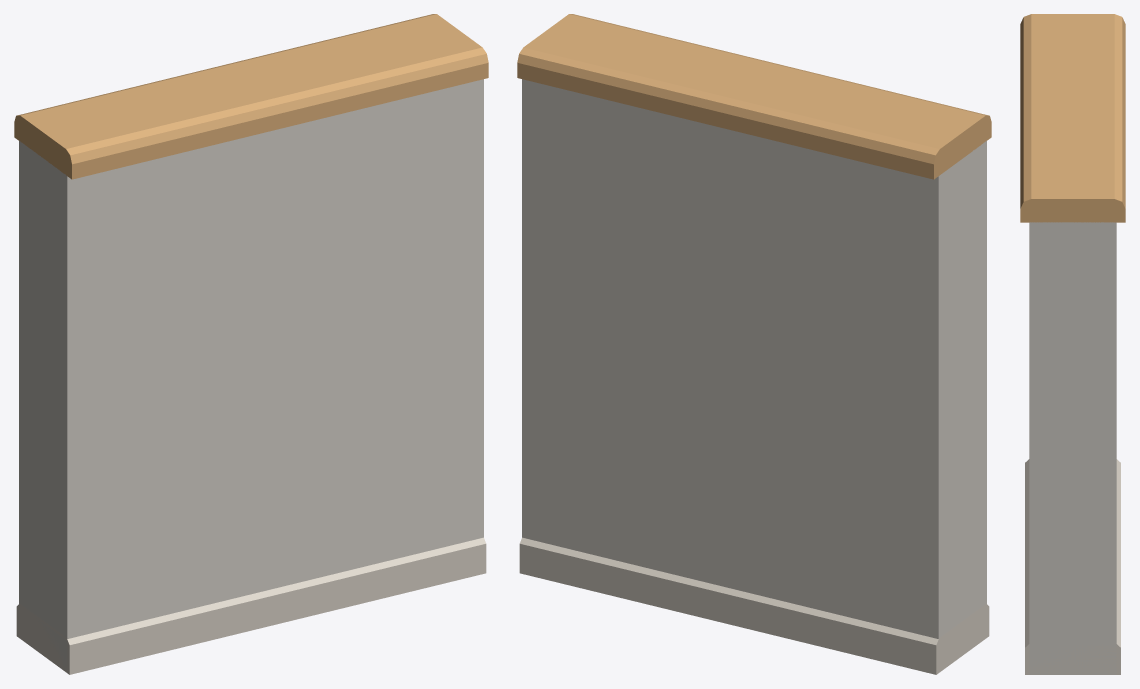
The model's file is wand_halb.glb.
3 renders of one model, left to right at view 1: azimuth 30°, elevation 25°; view 2: azimuth 150°, elevation 25°; view 3: azimuth 270°, elevation 25°, orthographic. The views are drawn at different scales.
Visible parts, largest first — view 1: wand_halb; view 2: wand_halb; view 3: wand_halb.
Part boxes in pixels (left/top/right/bottom): wand_halb: left=14, top=14, right=488, bottom=674; wand_halb: left=517, top=14, right=991, bottom=674; wand_halb: left=1020, top=14, right=1125, bottom=674.
Size of the model in its own units: 1 by 1.2 by 0.24.
